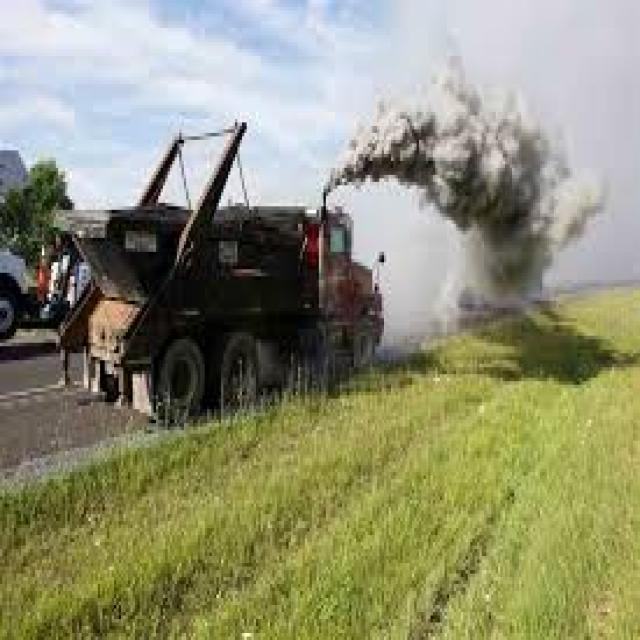smoke: (431, 62, 586, 300), (339, 106, 429, 187)
